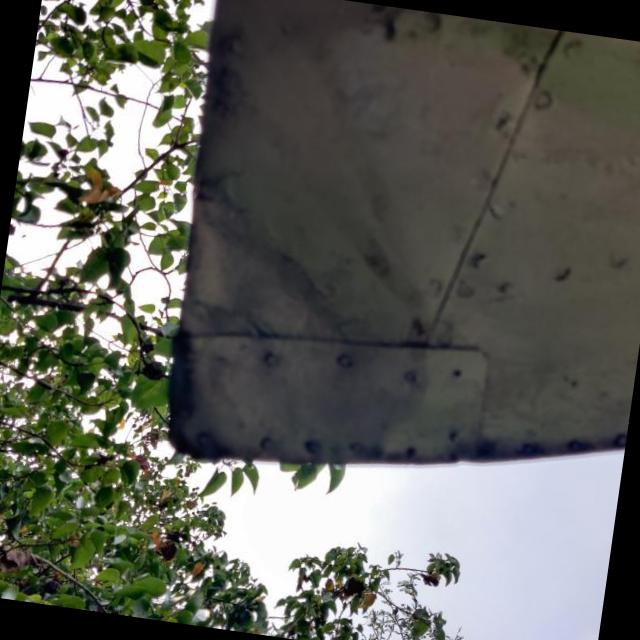Dent: (180, 122, 385, 343)
